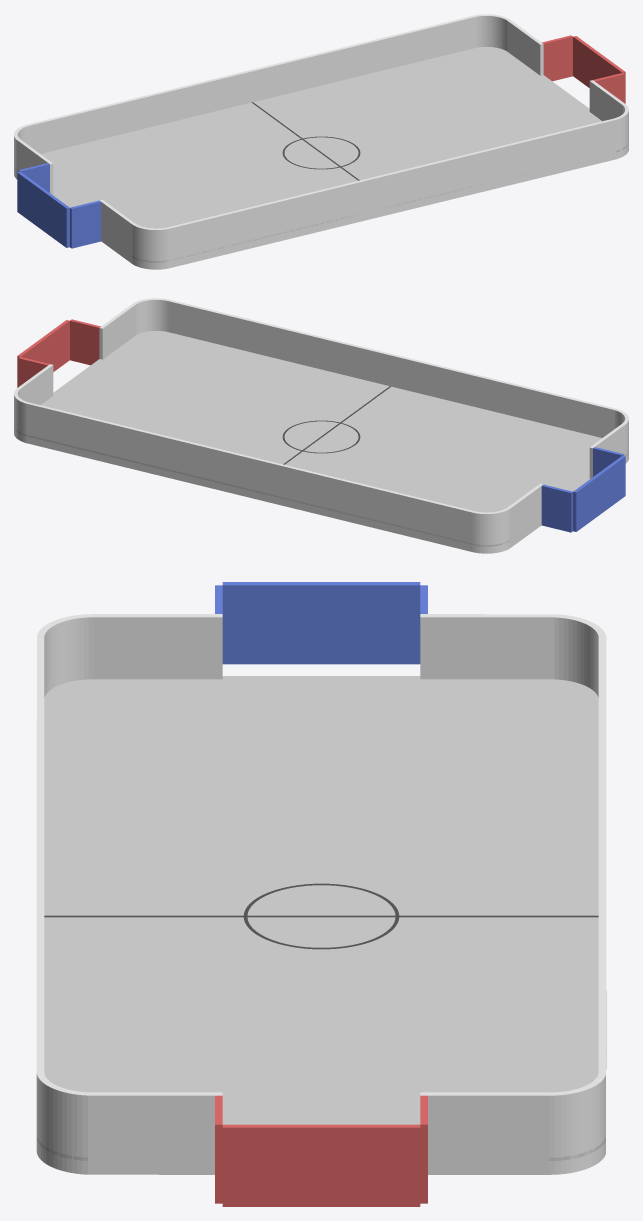
The model's file is Rink.glb.
The picture shows the model from 3 angles, top to bottom: view 1: azimuth 30°, elevation 25°; view 2: azimuth 150°, elevation 25°; view 3: azimuth 270°, elevation 25°; orthographic projection. The views are drawn at different scales.
Visible parts, largest first — view 1: Floor, Walls-col, GoalLBack-convcol, GoalRBack-convcol, GoalLSideL-convcol, GoalRSideR-convcol, GoalRSideL-convcol, GoalLSideR-convcol; view 2: Floor, Walls-col, GoalLBack-convcol, GoalRBack-convcol, GoalLSideR-convcol, GoalRSideL-convcol, GoalRSideR-convcol, GoalLSideL-convcol; view 3: Floor, Walls-col, GoalRBack-convcol, GoalLBack-convcol, CenterLine, CenterCircle, GoalRSideL-convcol, GoalRSideR-convcol.
Part boxes in pixels (left/top/right/bottom): Floor: left=14, top=47, right=627, bottom=262; Walls-col: left=14, top=14, right=628, bottom=269; GoalLBack-convcol: left=17, top=171, right=69, bottom=247; GoalRBack-convcol: left=573, top=36, right=625, bottom=103; GoalLSideL-convcol: left=70, top=200, right=101, bottom=248; GoalRSideR-convcol: left=542, top=35, right=572, bottom=81; GoalRSideL-convcol: left=593, top=73, right=624, bottom=102; GoalLSideR-convcol: left=18, top=163, right=49, bottom=192; Floor: left=14, top=331, right=628, bottom=546; Walls-col: left=14, top=298, right=628, bottom=553; GoalLBack-convcol: left=573, top=455, right=625, bottom=531; GoalRBack-convcol: left=17, top=320, right=69, bottom=387; GoalLSideR-convcol: left=541, top=484, right=572, bottom=532; GoalRSideL-convcol: left=70, top=319, right=100, bottom=365; GoalRSideR-convcol: left=18, top=357, right=49, bottom=386; GoalLSideL-convcol: left=593, top=447, right=624, bottom=476; Floor: left=36, top=676, right=606, bottom=1160; Walls-col: left=36, top=614, right=606, bottom=1174; GoalRBack-convcol: left=222, top=1124, right=420, bottom=1206; GoalLBack-convcol: left=222, top=582, right=420, bottom=664; CenterLine: left=44, top=915, right=598, bottom=917; CenterCircle: left=243, top=883, right=399, bottom=949; GoalRSideL-convcol: left=215, top=1095, right=222, bottom=1203; GoalRSideR-convcol: left=420, top=1095, right=427, bottom=1203.
Size of the model in its own units: 3.4 by 0.23 by 1.5.
